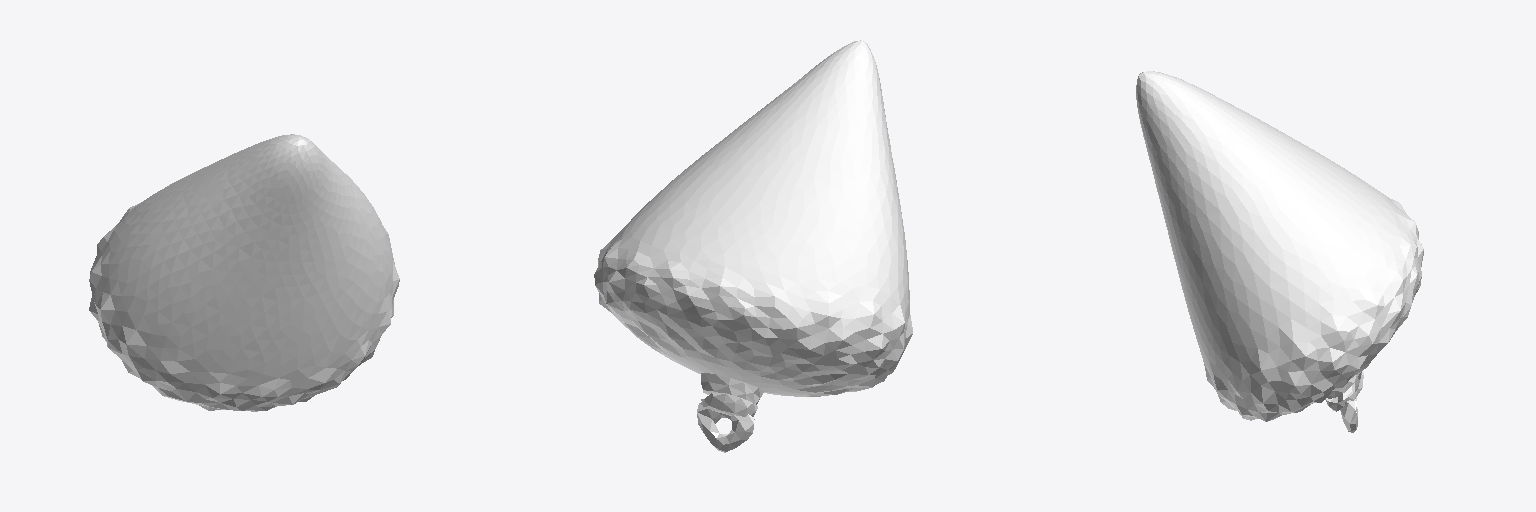
The model's file is pinecone_scaled_scaled.obj.
The picture shows the model from 3 angles: view 1: azimuth 30°, elevation 25°; view 2: azimuth 150°, elevation 25°; view 3: azimuth 270°, elevation 25°; orthographic projection.
Size of the model in its own units: 11.57 by 12.99 by 9.87.